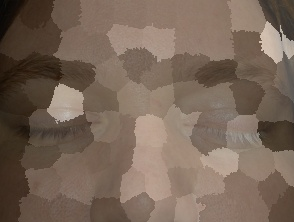vitiligo: (172, 85, 294, 160)
